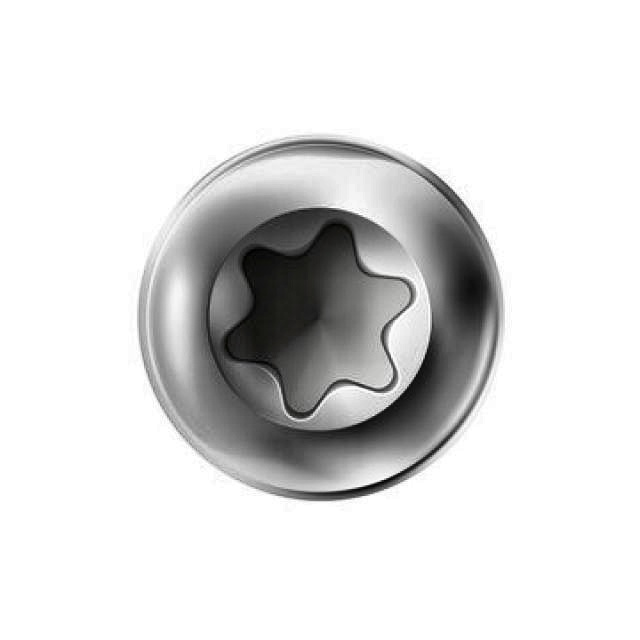torx: (137, 135, 507, 501)
